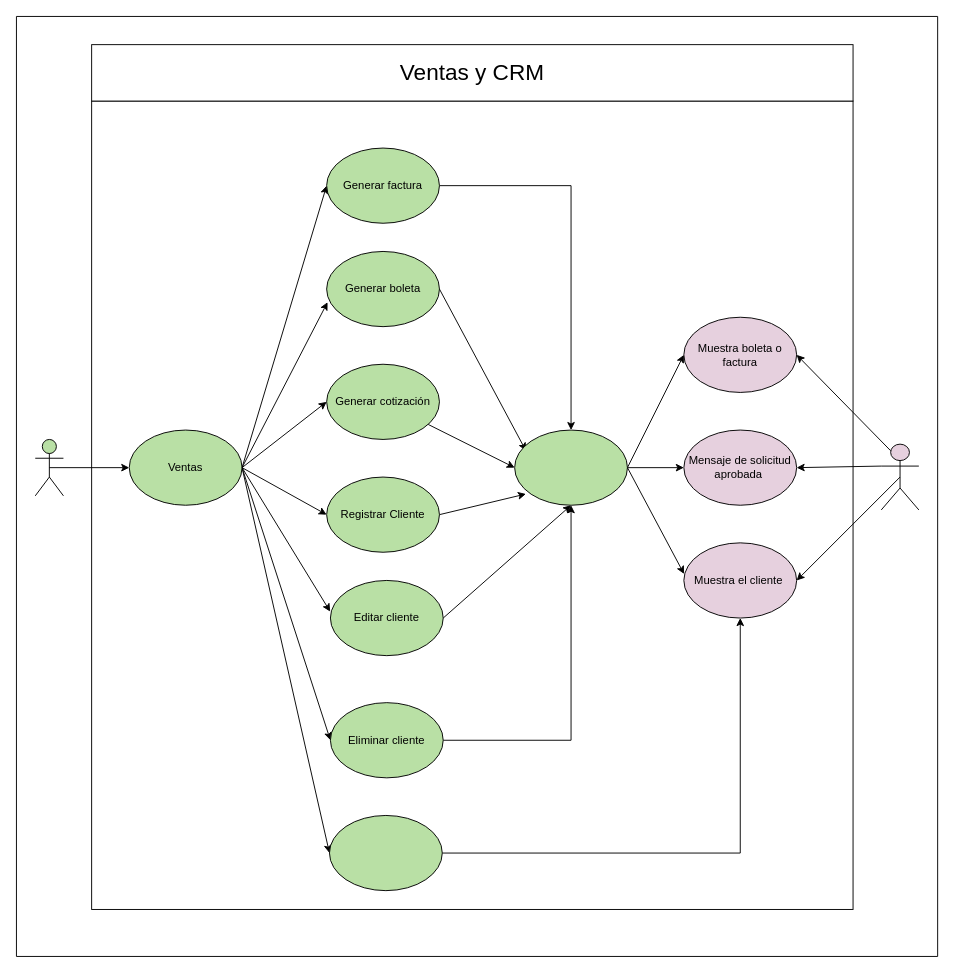
Image size: 954x973. Some labels were removed from this diagram. The centre of each missing label's shape, as x and y in pixels:
Llenado de formulario: the point at 570,467
Sistema: the point at 899,476
Usuario de logística: the point at 48,467
Ver cliente: the point at 385,853
